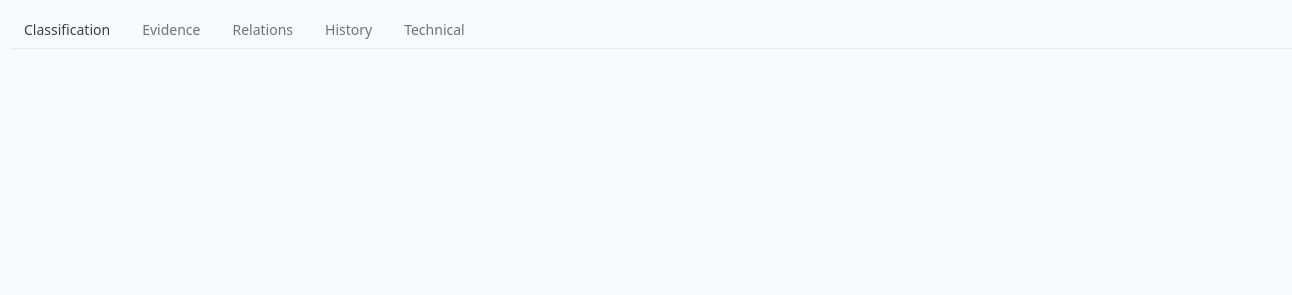
Test: AccountSubviewTabs (technical タブの取得) › freshnessStatus と sourceWatermarkAt を表示する
The width and height of the screenshot is (1292, 295).
Step 1. Click the tab "Technical" → click(434, 30), box [392,12,477,48]
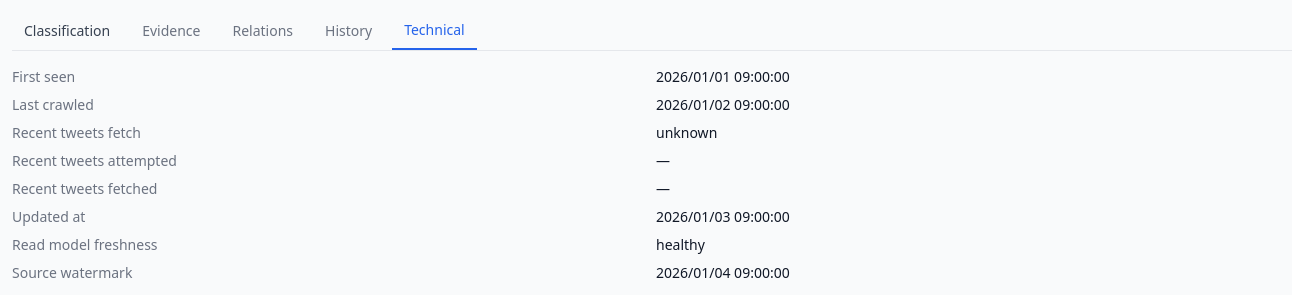
Check: the text "healthy" is shown, box [656,235,705,254]
